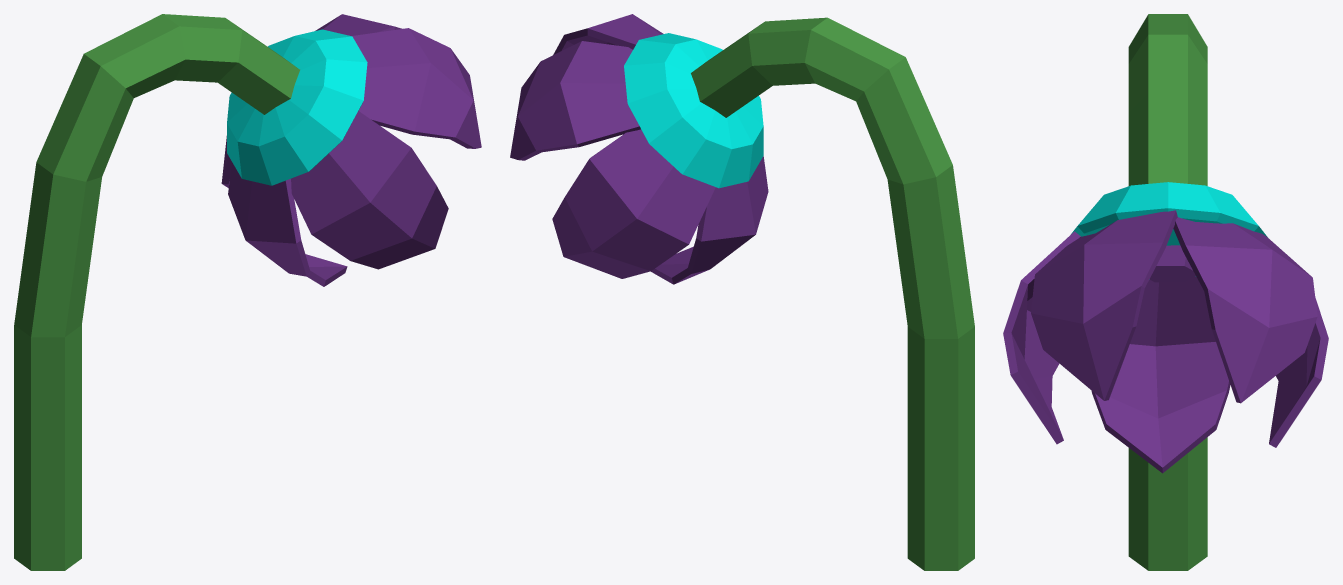
File: FleurChepa.fbx
3 views of the same model, side by side, from view 1: azimuth 30°, elevation 25°; view 2: azimuth 150°, elevation 25°; view 3: azimuth 270°, elevation 25° (orthographic). The views are drawn at different scales.
Parts seen in each view (by area): view 1: Circle.001, Circle, Sphere; view 2: Circle.001, Circle, Sphere; view 3: Circle, Circle.001, Sphere, Circle.002.
Boxes of the visible parts, bbox=[...] form: Circle.001: bbox=[14, 14, 299, 570]; Circle: bbox=[221, 14, 481, 286]; Sphere: bbox=[227, 29, 367, 185]; Circle.001: bbox=[691, 17, 974, 570]; Circle: bbox=[510, 14, 768, 284]; Sphere: bbox=[624, 33, 763, 188]; Circle: bbox=[1003, 210, 1328, 473]; Circle.001: bbox=[1128, 14, 1207, 570]; Sphere: bbox=[1071, 182, 1267, 279]; Circle.002: bbox=[1149, 245, 1195, 282].
Bounding box in the file's own units: 553 × 622 × 311.
